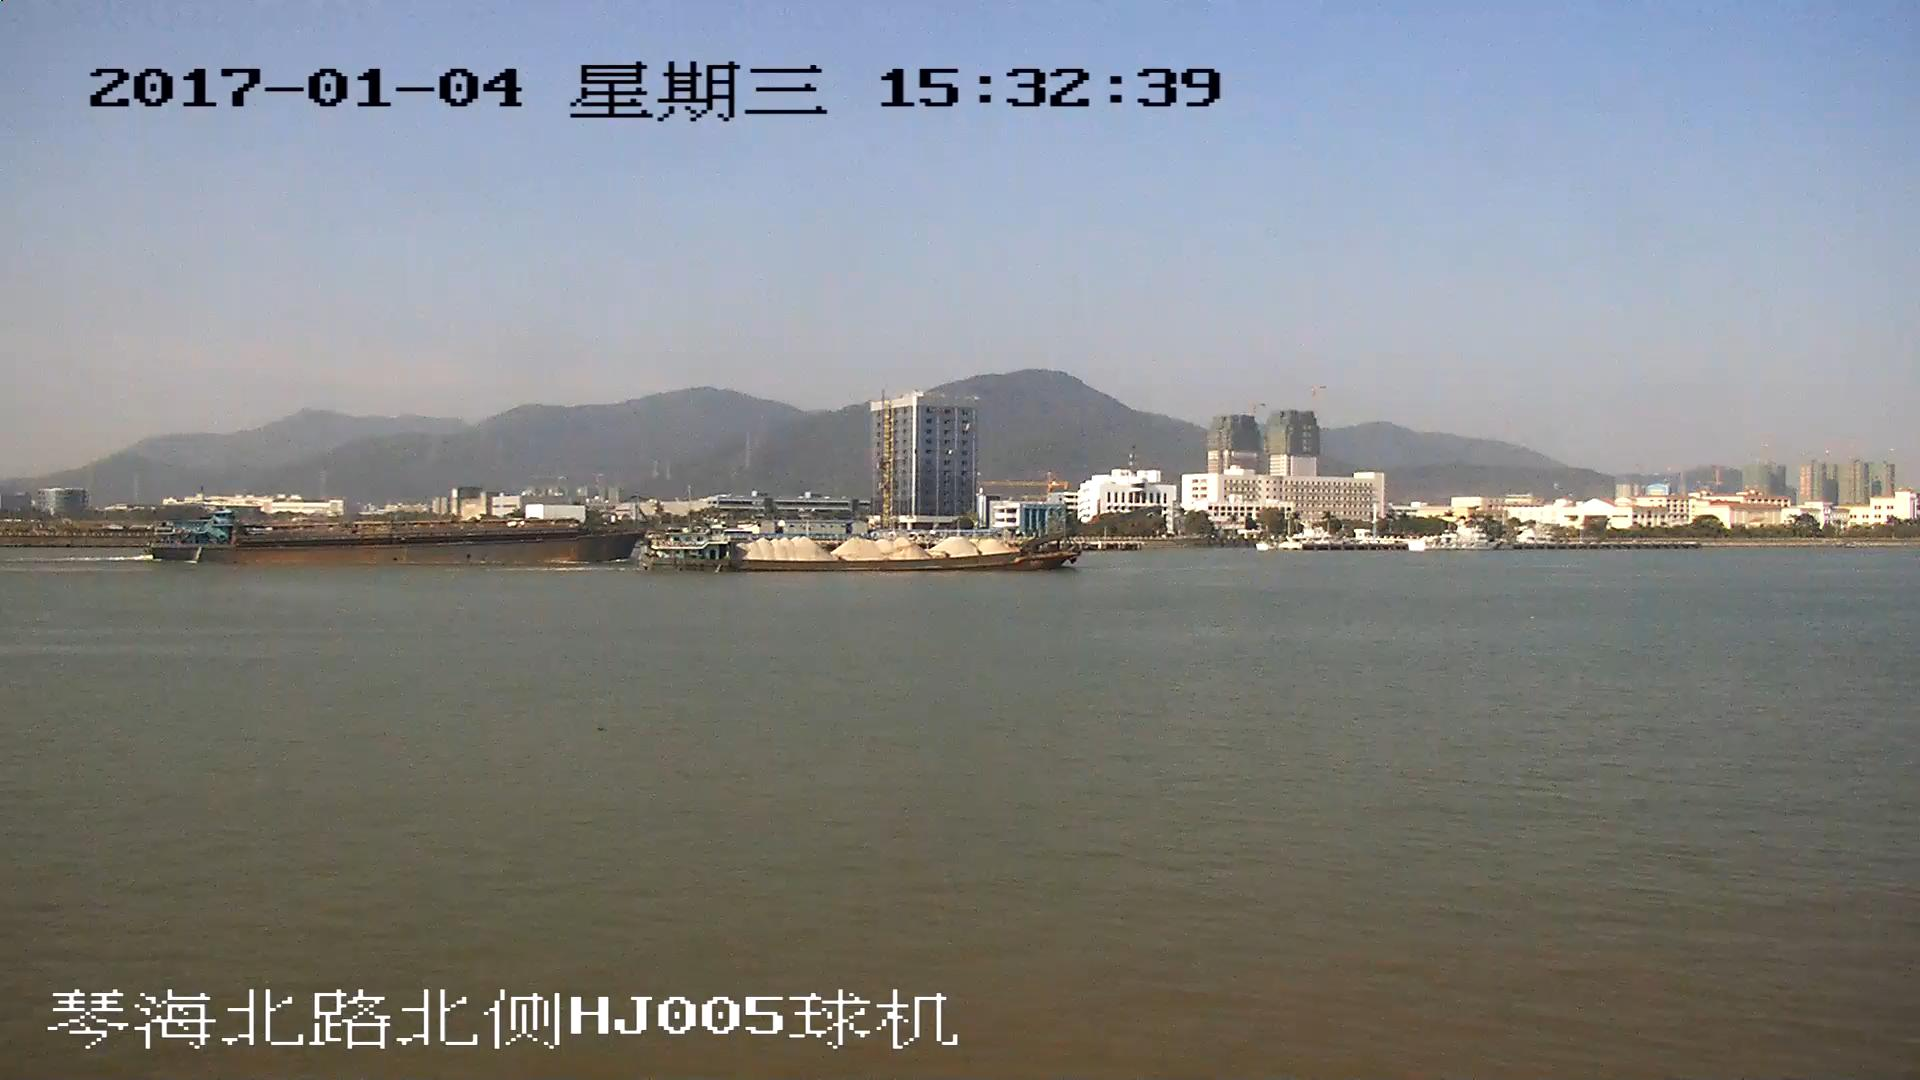bulk cargo carrier: (154, 509, 645, 566)
ore carrier: (651, 508, 1158, 563)
